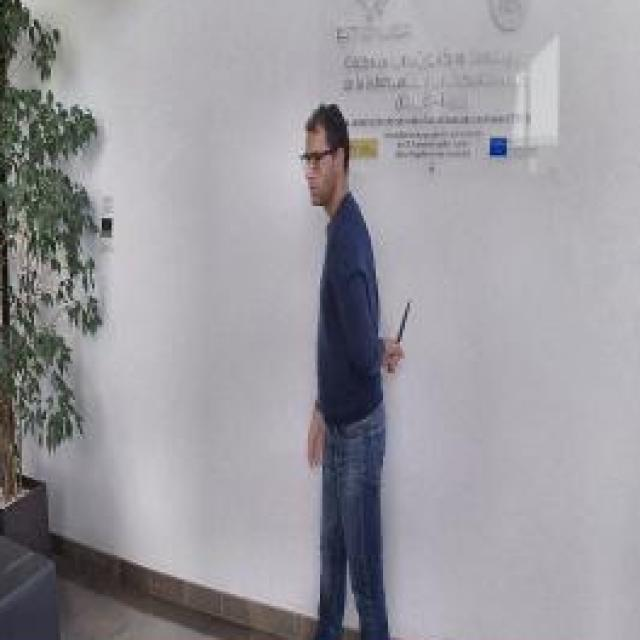knife: (386, 289, 414, 378)
